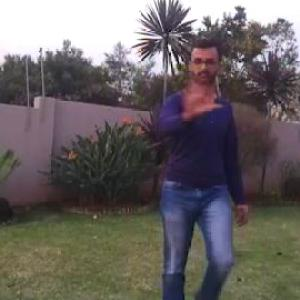follow_hand: (177, 73, 222, 121)
